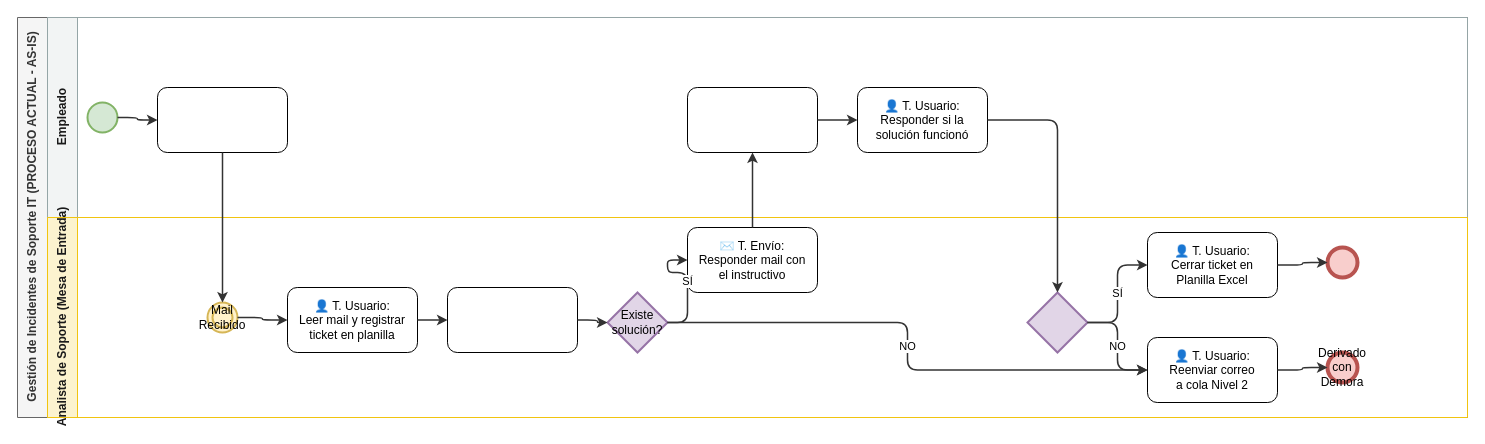
The diagram is 1485 pixels wide and 444 high, and some of its shapes have lost their labels. The shapes that lost their labels are listed below. From the top down, each one's centre as x and y in pixels, then its label:
point 222,119: 👤 T. Usuario: Redactar y enviar correo con la falla
point 752,119: 👤 T. Manual: Aplicar instructivo recibido
point 1342,262: Cerrado Manual
point 512,319: 👤 T. Usuario: Buscar solución manualmente en FAQs
point 1057,322: Se resolvió?
